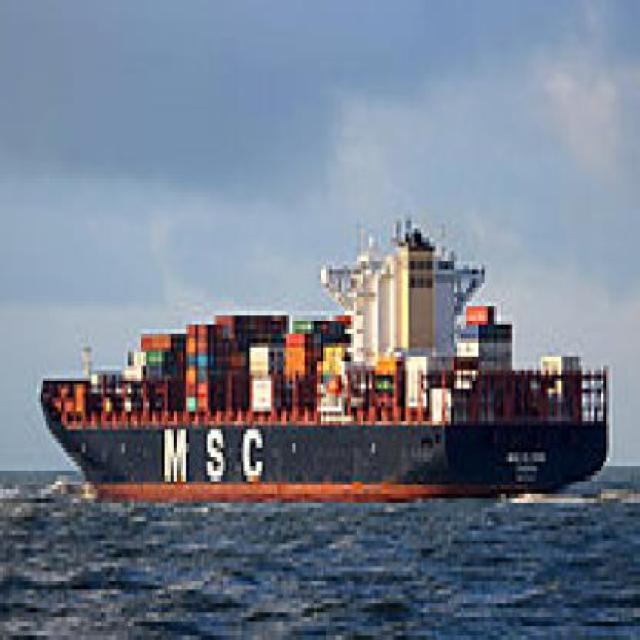container: (26, 211, 629, 522)
